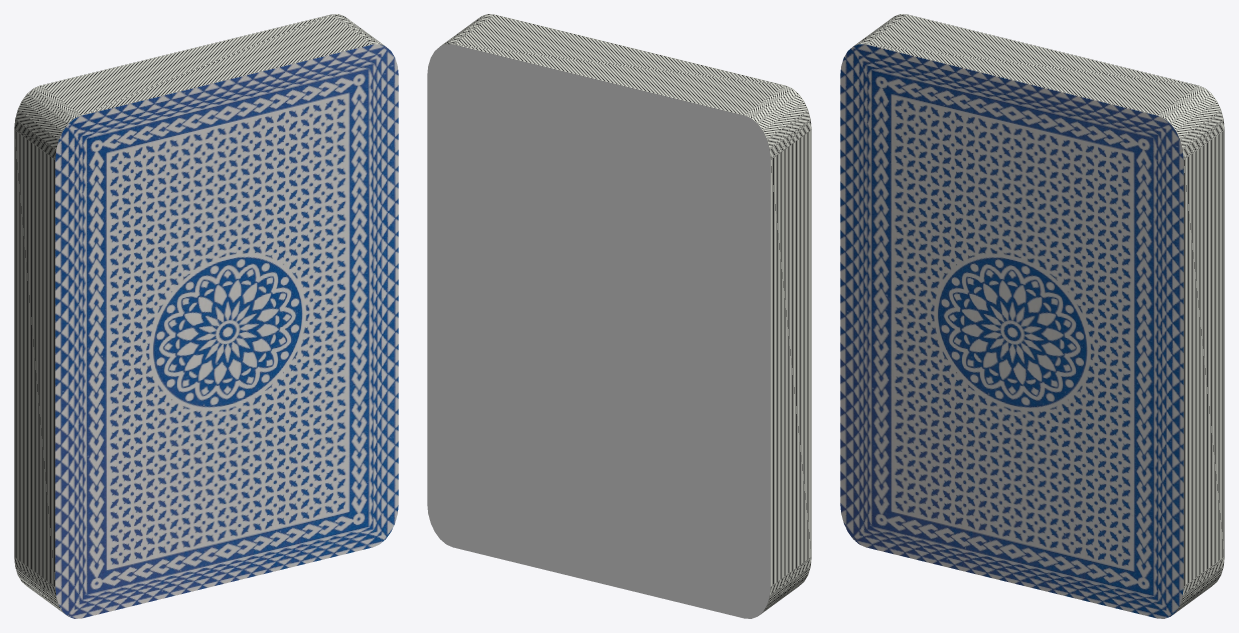
The model's file is GameDeck.fbx.
3 views of the same model, side by side, from view 1: azimuth 30°, elevation 25°; view 2: azimuth 150°, elevation 25°; view 3: azimuth 330°, elevation 25° (orthographic).
Visible parts, largest first — view 1: Cube; view 2: Cube; view 3: Cube.
Boxes of the visible parts, x1,y1,x2,y2 form: Cube: (14,14,398,618); Cube: (427,14,811,618); Cube: (840,14,1224,618).
Bounding box in the file's own units: 500 × 700 × 104.
